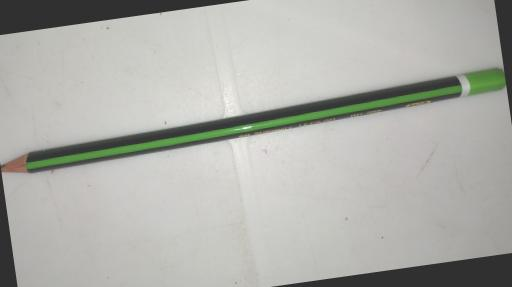Pencil: (0, 64, 509, 179)
